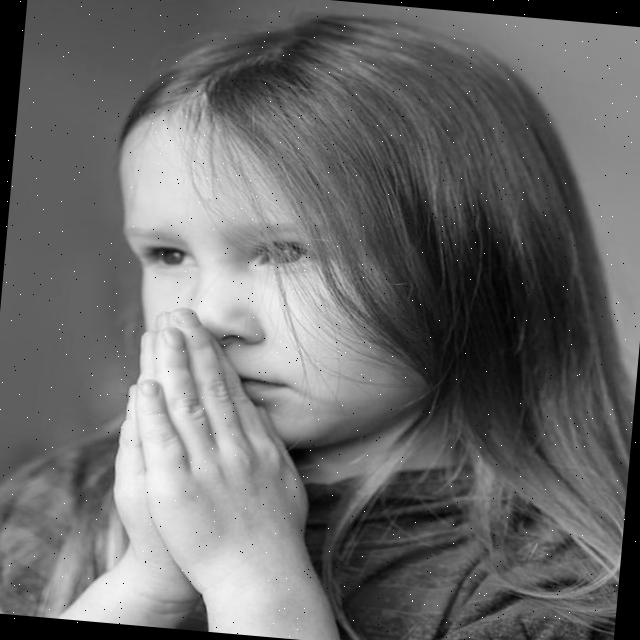Fear: (97, 97, 355, 446)
